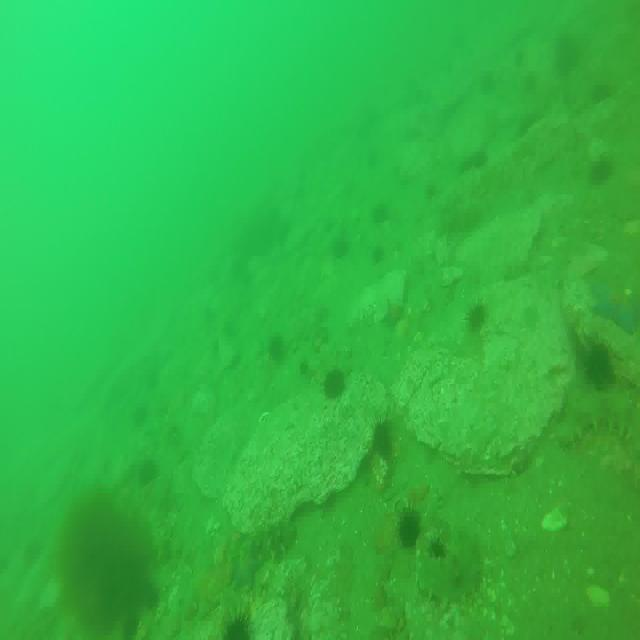echinus: (586, 340, 614, 390), (369, 418, 393, 461), (222, 610, 255, 640), (398, 506, 420, 550), (322, 371, 348, 401), (465, 300, 488, 332), (590, 160, 612, 187), (270, 331, 286, 360), (372, 203, 390, 228), (473, 150, 489, 175), (457, 156, 473, 180), (334, 235, 350, 258), (140, 456, 155, 480), (371, 243, 385, 262)
holothurian: (556, 387, 640, 451), (415, 536, 479, 605)
starfish: (591, 284, 640, 337)
